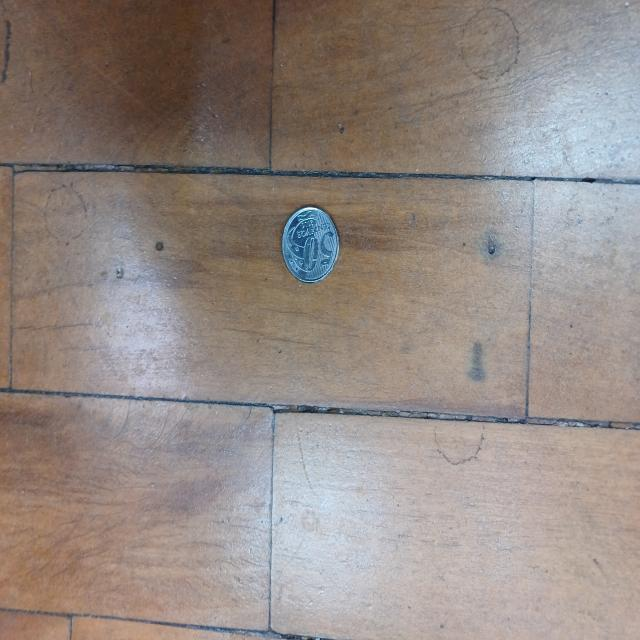50 cents: (282, 202, 341, 290)
